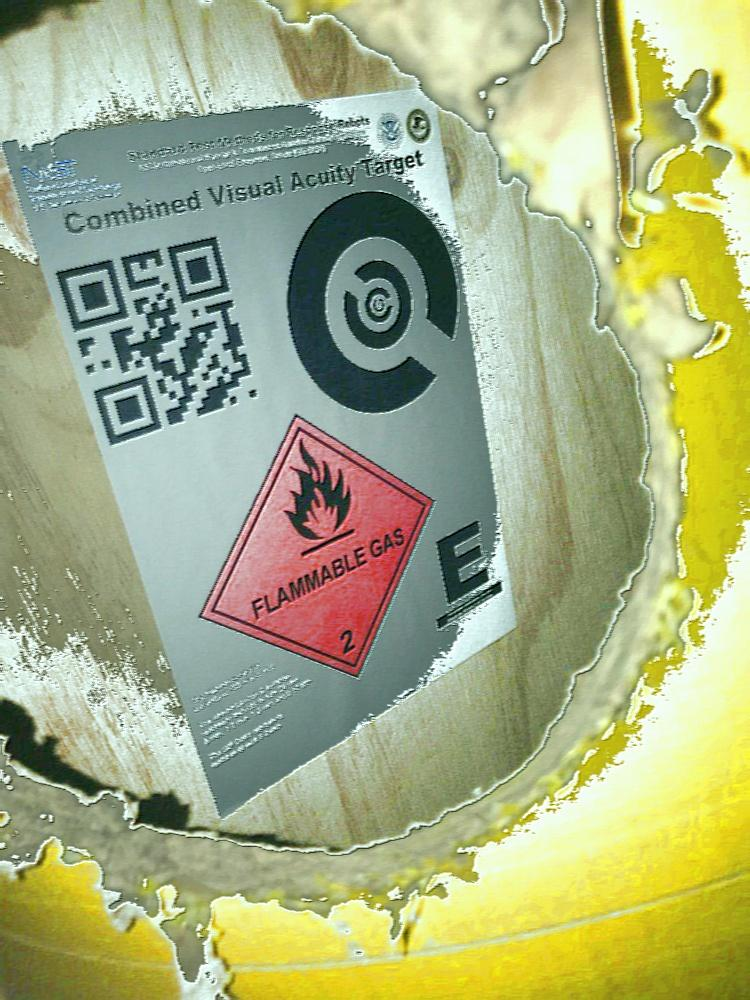flammable: (197, 413, 430, 676)
